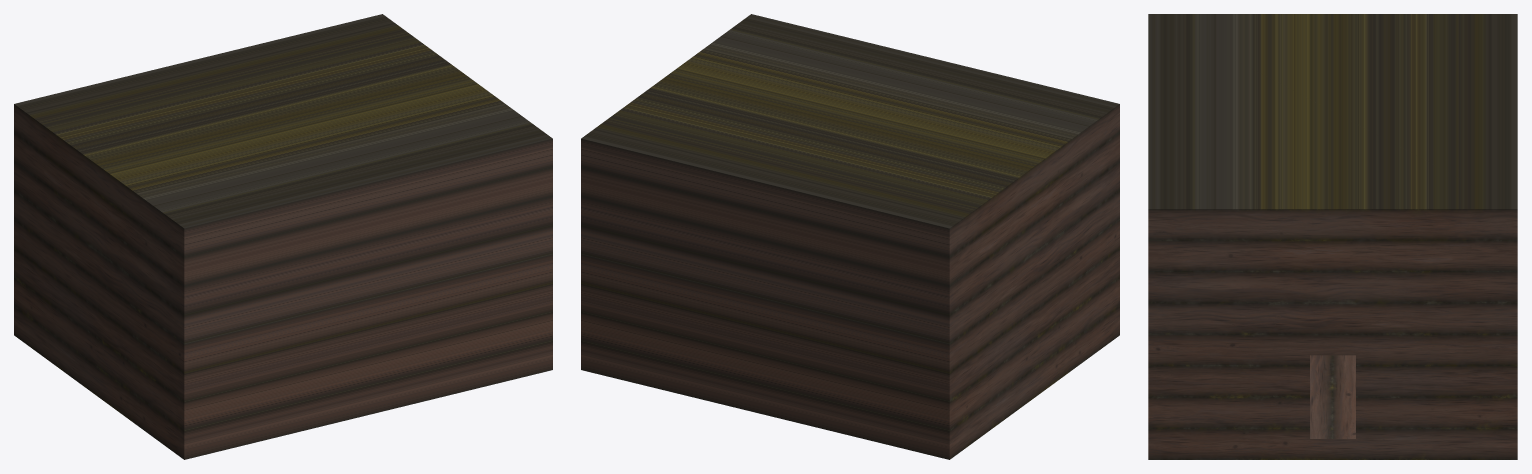
The model's file is Dom.fbx.
3 views of the same model, side by side, from view 1: azimuth 30°, elevation 25°; view 2: azimuth 150°, elevation 25°; view 3: azimuth 270°, elevation 25° (orthographic). The views are drawn at different scales.
Parts seen in each view (by area): view 1: Cube.002; view 2: Cube.002; view 3: Cube.002.
Part boxes in pixels (x1,y1,x2,y2): Cube.002: (14,14,552,459); Cube.002: (581,14,1119,459); Cube.002: (1148,14,1517,459).
Bounding box in the file's own units: 2000 × 1200 × 1600.
1 material, 1 textured.
